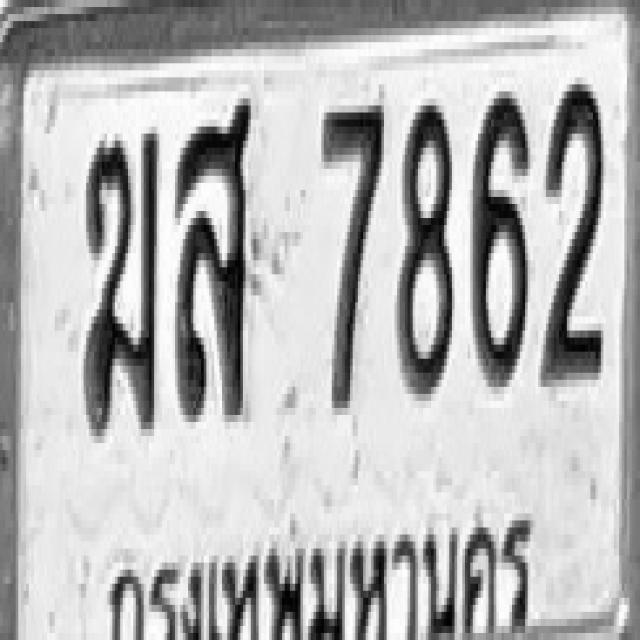15KhorRaKhang: (84, 127, 160, 429)
2: (541, 77, 603, 380)
49SorSuea: (175, 95, 251, 418)
6: (470, 91, 528, 387)
7: (321, 95, 384, 411)
8: (396, 98, 453, 394)
Bangkok: (102, 506, 530, 640)
